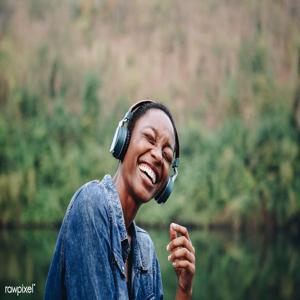Headphones: (107, 98, 180, 204)
